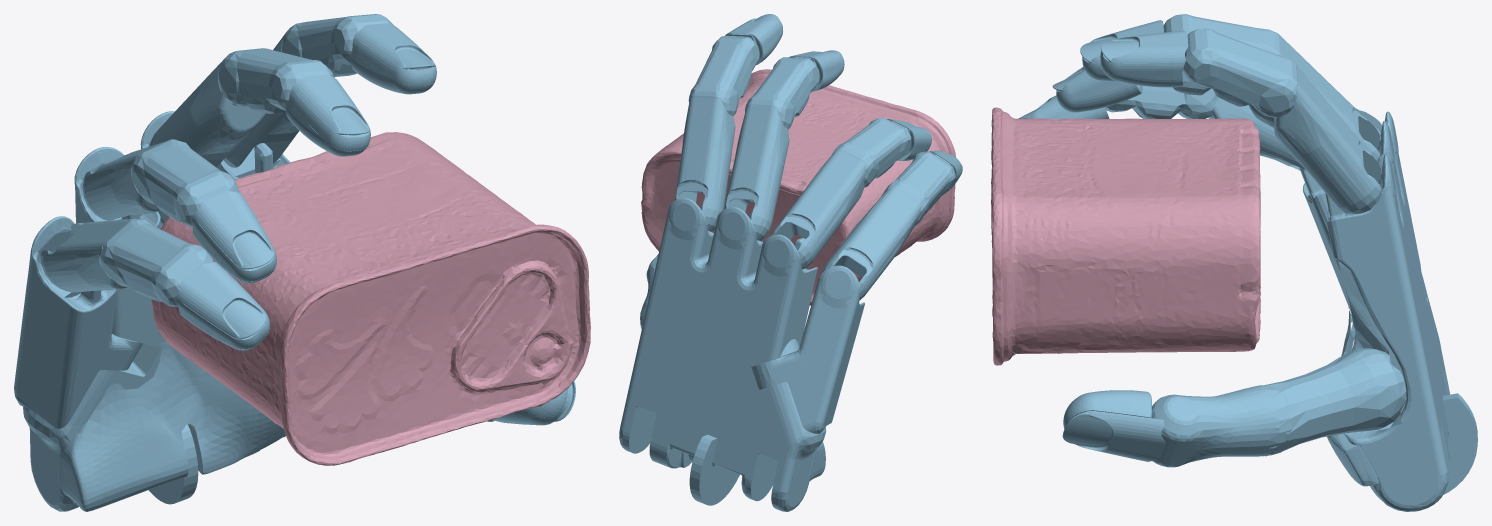
3 renders of one model, left to right at view 1: azimuth 30°, elevation 25°; view 2: azimuth 150°, elevation 25°; view 3: azimuth 270°, elevation 25°, orthographic. The views are drawn at different scales.
Parts seen in each view (by area): view 1: world, potted_meat_can.stl; view 2: world, potted_meat_can.stl; view 3: world, potted_meat_can.stl.
Boxes of the visible parts, <box> form: world: <box>14,14,575,511</box>; potted_meat_can.stl: <box>151,132,590,465</box>; world: <box>619,14,962,511</box>; potted_meat_can.stl: <box>641,69,955,305</box>; world: <box>1019,14,1477,511</box>; potted_meat_can.stl: <box>991,107,1260,365</box>.
Size of the model in its own units: 0.1333 by 0.172 by 0.1507.
